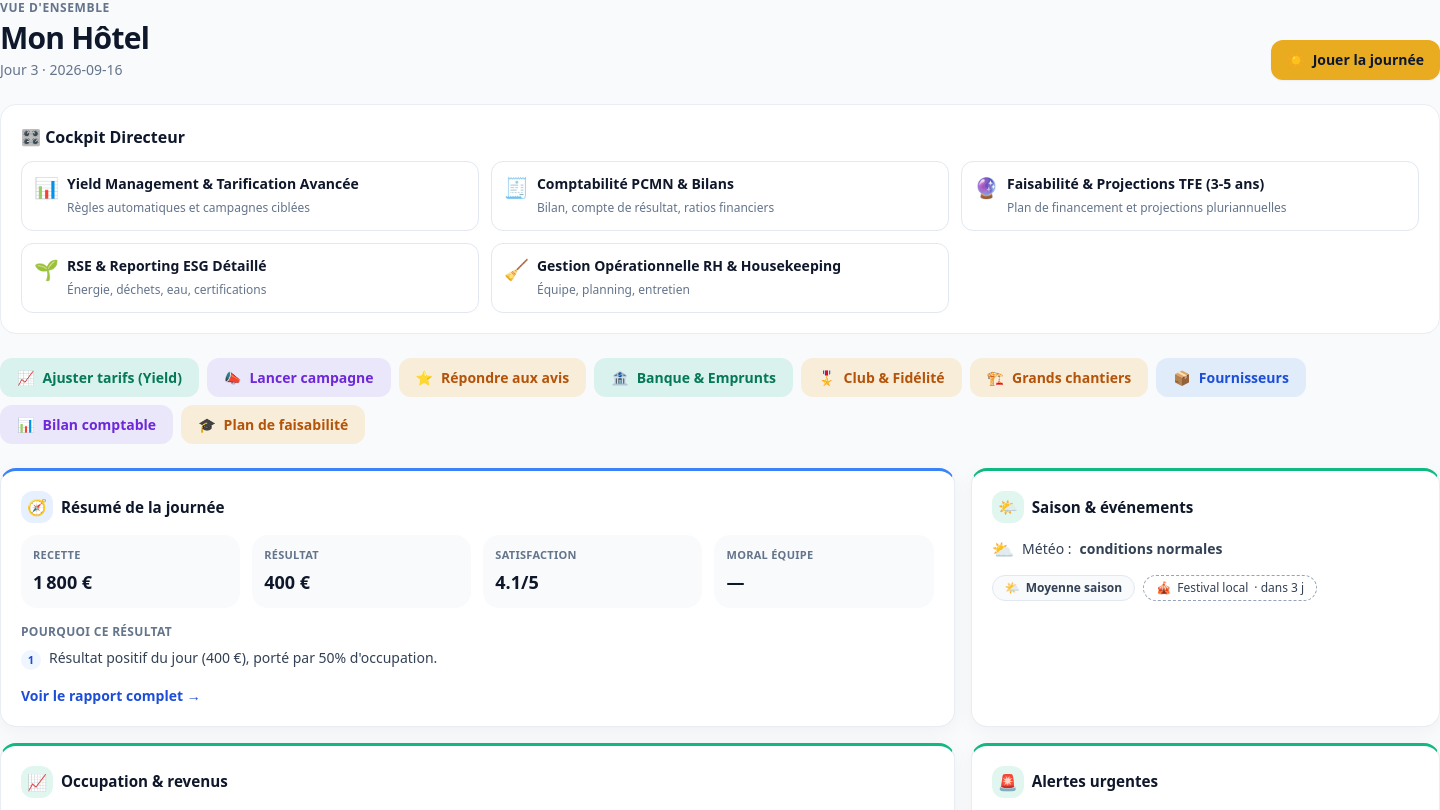
it: Dashboard / major projects › opens the desk from there
The image size is (1440, 810).
Click the button with test id "quick-projects".
click(1059, 378)  # box top-left (970, 358), bottom-right (1148, 397)
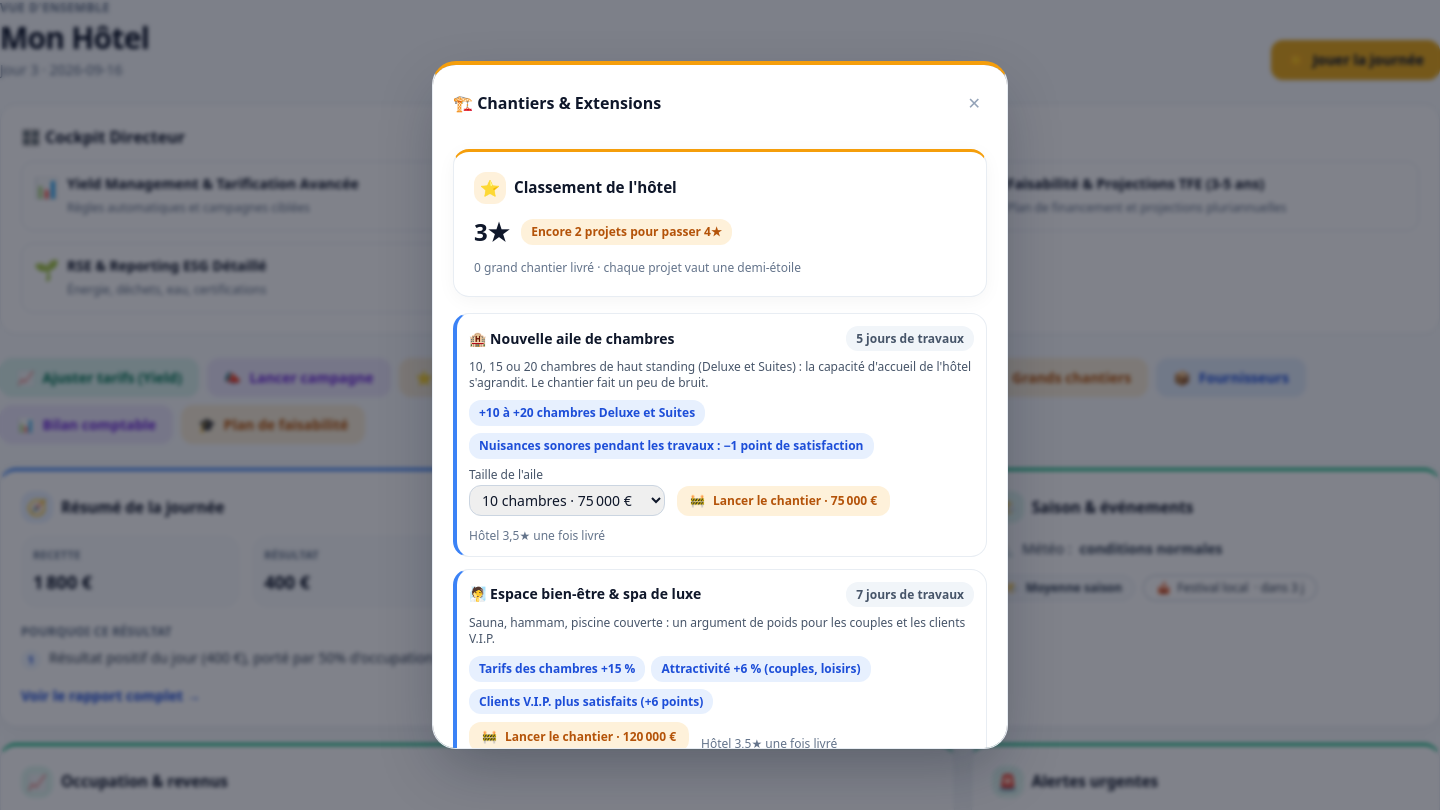
Check: the dialog "Chantiers & Extensions" is shown
